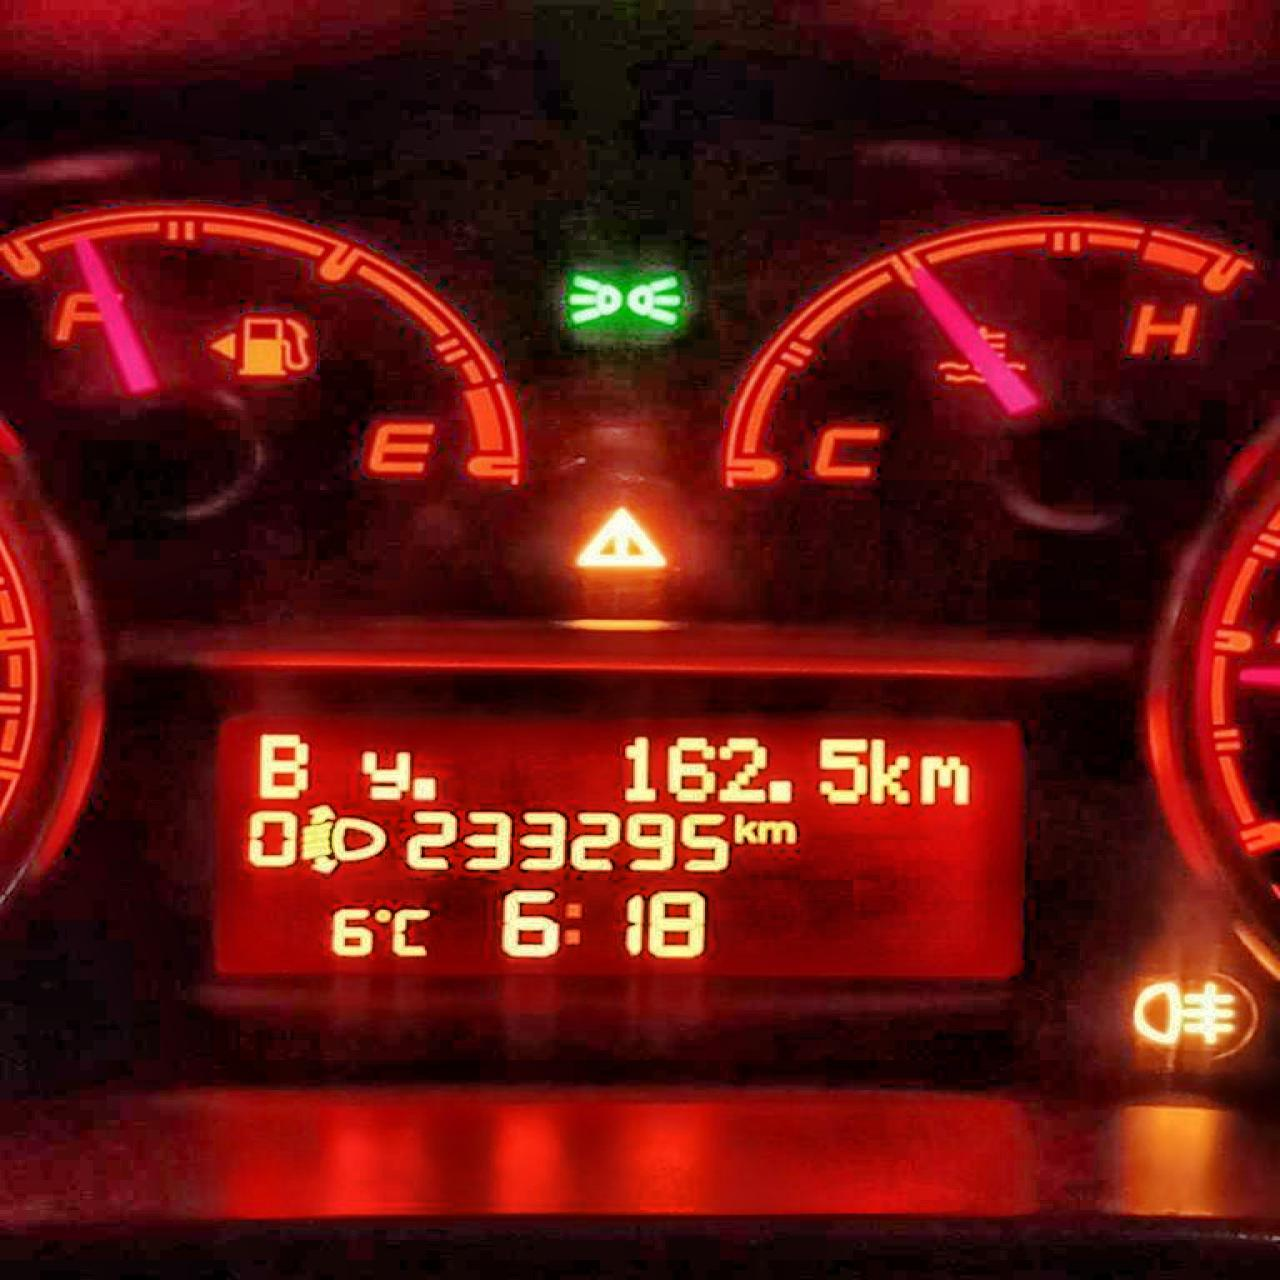-: (410, 772, 437, 803), (763, 776, 791, 804)
0: (244, 808, 297, 869)
1: (617, 731, 661, 804), (610, 888, 645, 956)
2: (716, 731, 765, 804), (408, 809, 455, 871), (570, 810, 618, 870)
3: (463, 809, 510, 871), (518, 809, 565, 871)
5: (810, 731, 866, 806), (676, 810, 727, 872)
6: (495, 886, 560, 959), (665, 734, 719, 804), (325, 906, 370, 958)
8: (648, 887, 708, 959)
9: (621, 810, 672, 871)
X: (257, 728, 311, 803), (866, 731, 911, 806), (353, 745, 410, 799), (918, 751, 969, 806), (390, 905, 428, 956), (558, 899, 585, 946), (757, 816, 794, 845), (731, 810, 755, 845)
odometer: (191, 700, 1032, 988)
